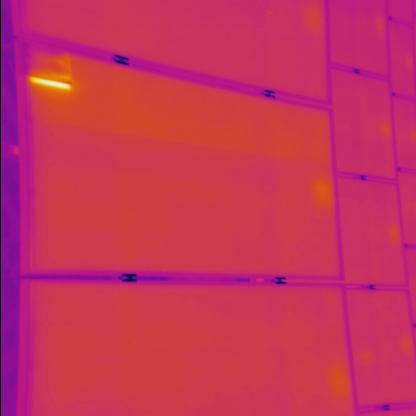hotspot: (27, 47, 75, 93)
